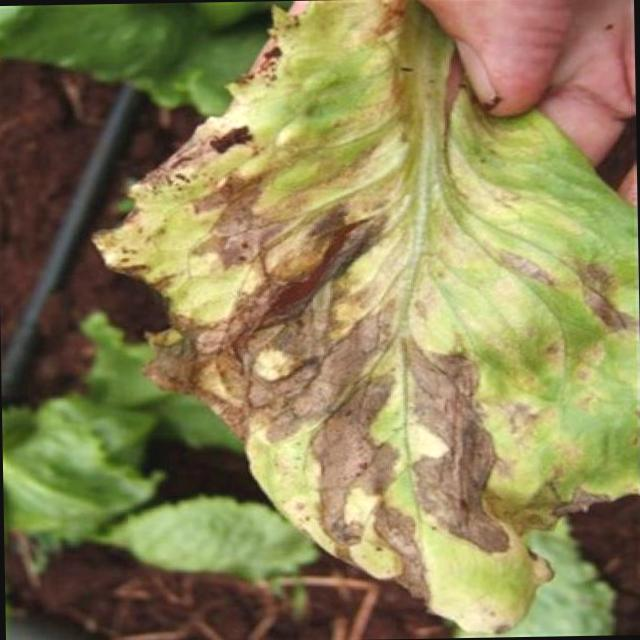Bacterial: (222, 192, 486, 441)
